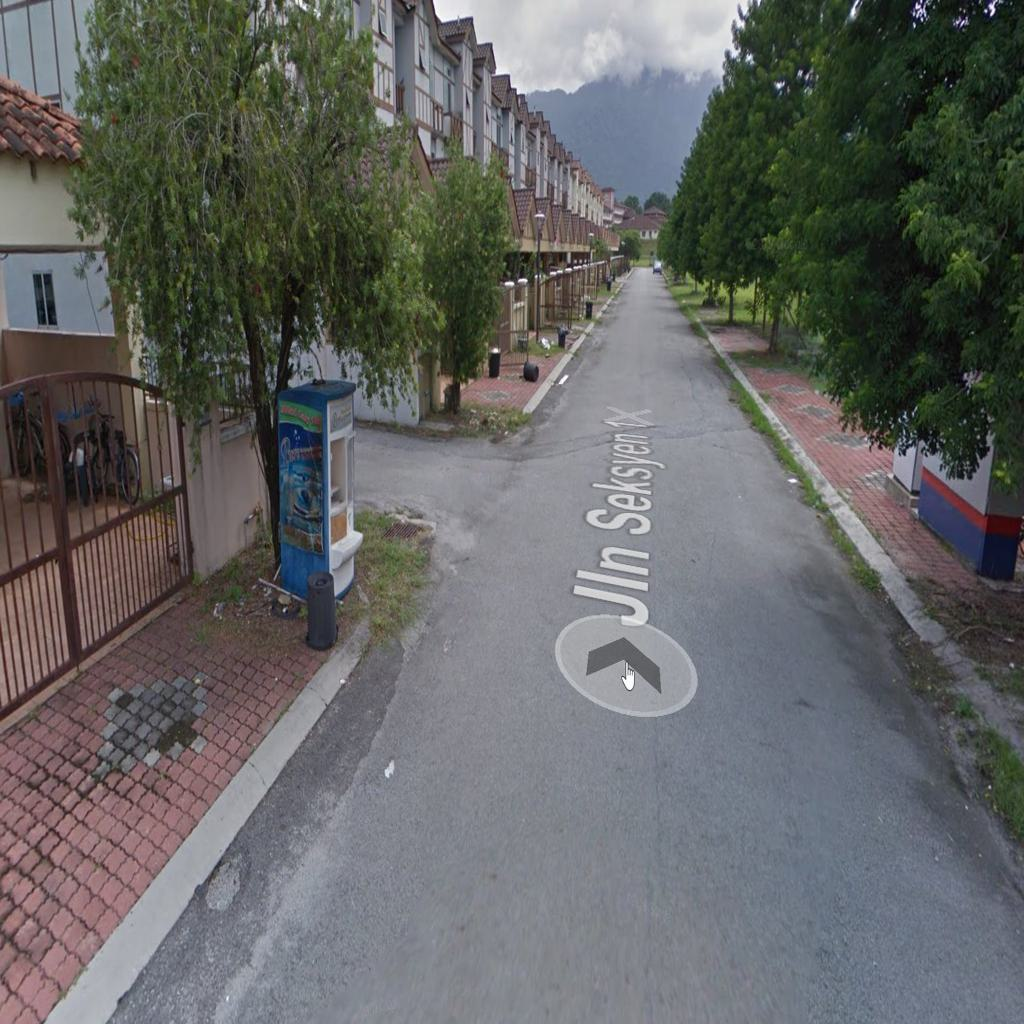Junction: (317, 392, 595, 643)
